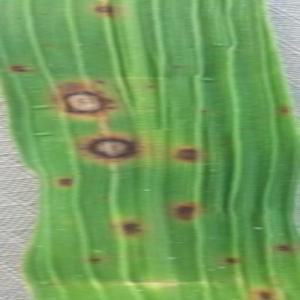Brown_Spot: (69, 124, 149, 175), (48, 76, 124, 122), (166, 197, 205, 226), (170, 139, 203, 170), (117, 218, 146, 239), (90, 2, 121, 20), (250, 285, 283, 300), (55, 171, 77, 192), (8, 61, 36, 76), (221, 253, 243, 267), (272, 240, 294, 254), (275, 101, 293, 117), (171, 60, 190, 73), (83, 254, 102, 266), (92, 76, 110, 87), (143, 80, 159, 92), (201, 107, 211, 116)
